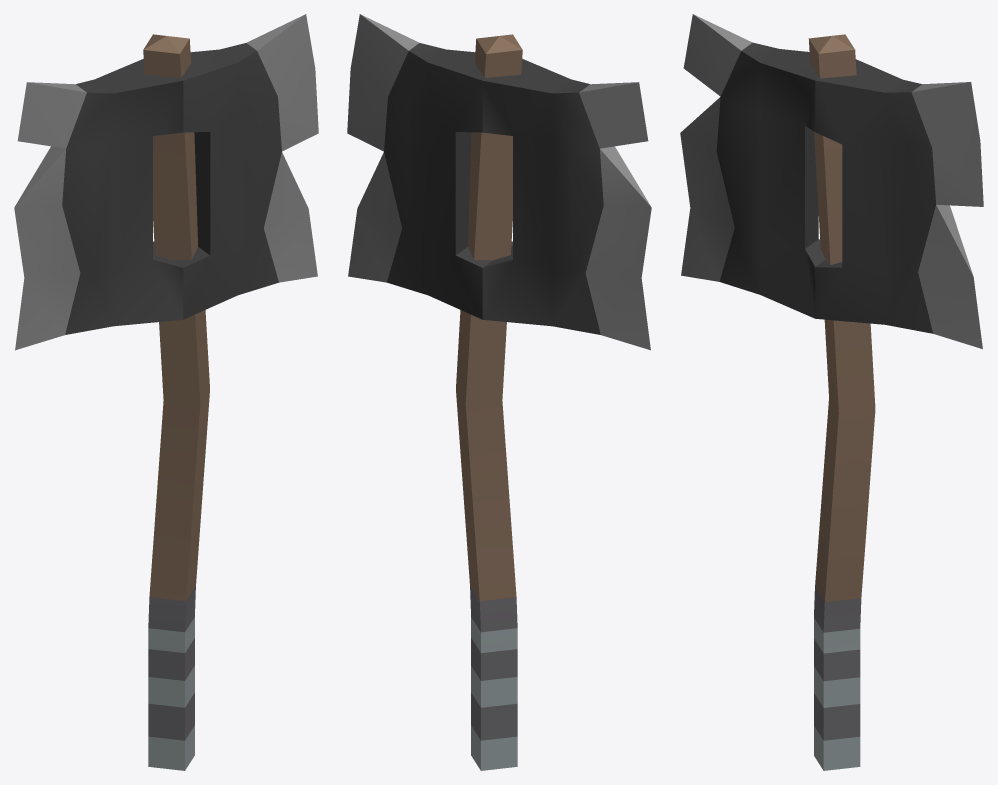
File: Axe_4.fbx
3 renders of one model, left to right at view 1: azimuth 30°, elevation 25°; view 2: azimuth 150°, elevation 25°; view 3: azimuth 330°, elevation 25°, orthographic.
Parts seen in each view (by area): view 1: polySurface501; view 2: polySurface501; view 3: polySurface501.
Boxes of the visible parts, box(x1,y1,x2,y2) form: polySurface501: box(14, 14, 318, 770); polySurface501: box(347, 14, 651, 770); polySurface501: box(680, 14, 983, 770).
Size of the model in its own units: 91.58 by 209 by 17.48.
